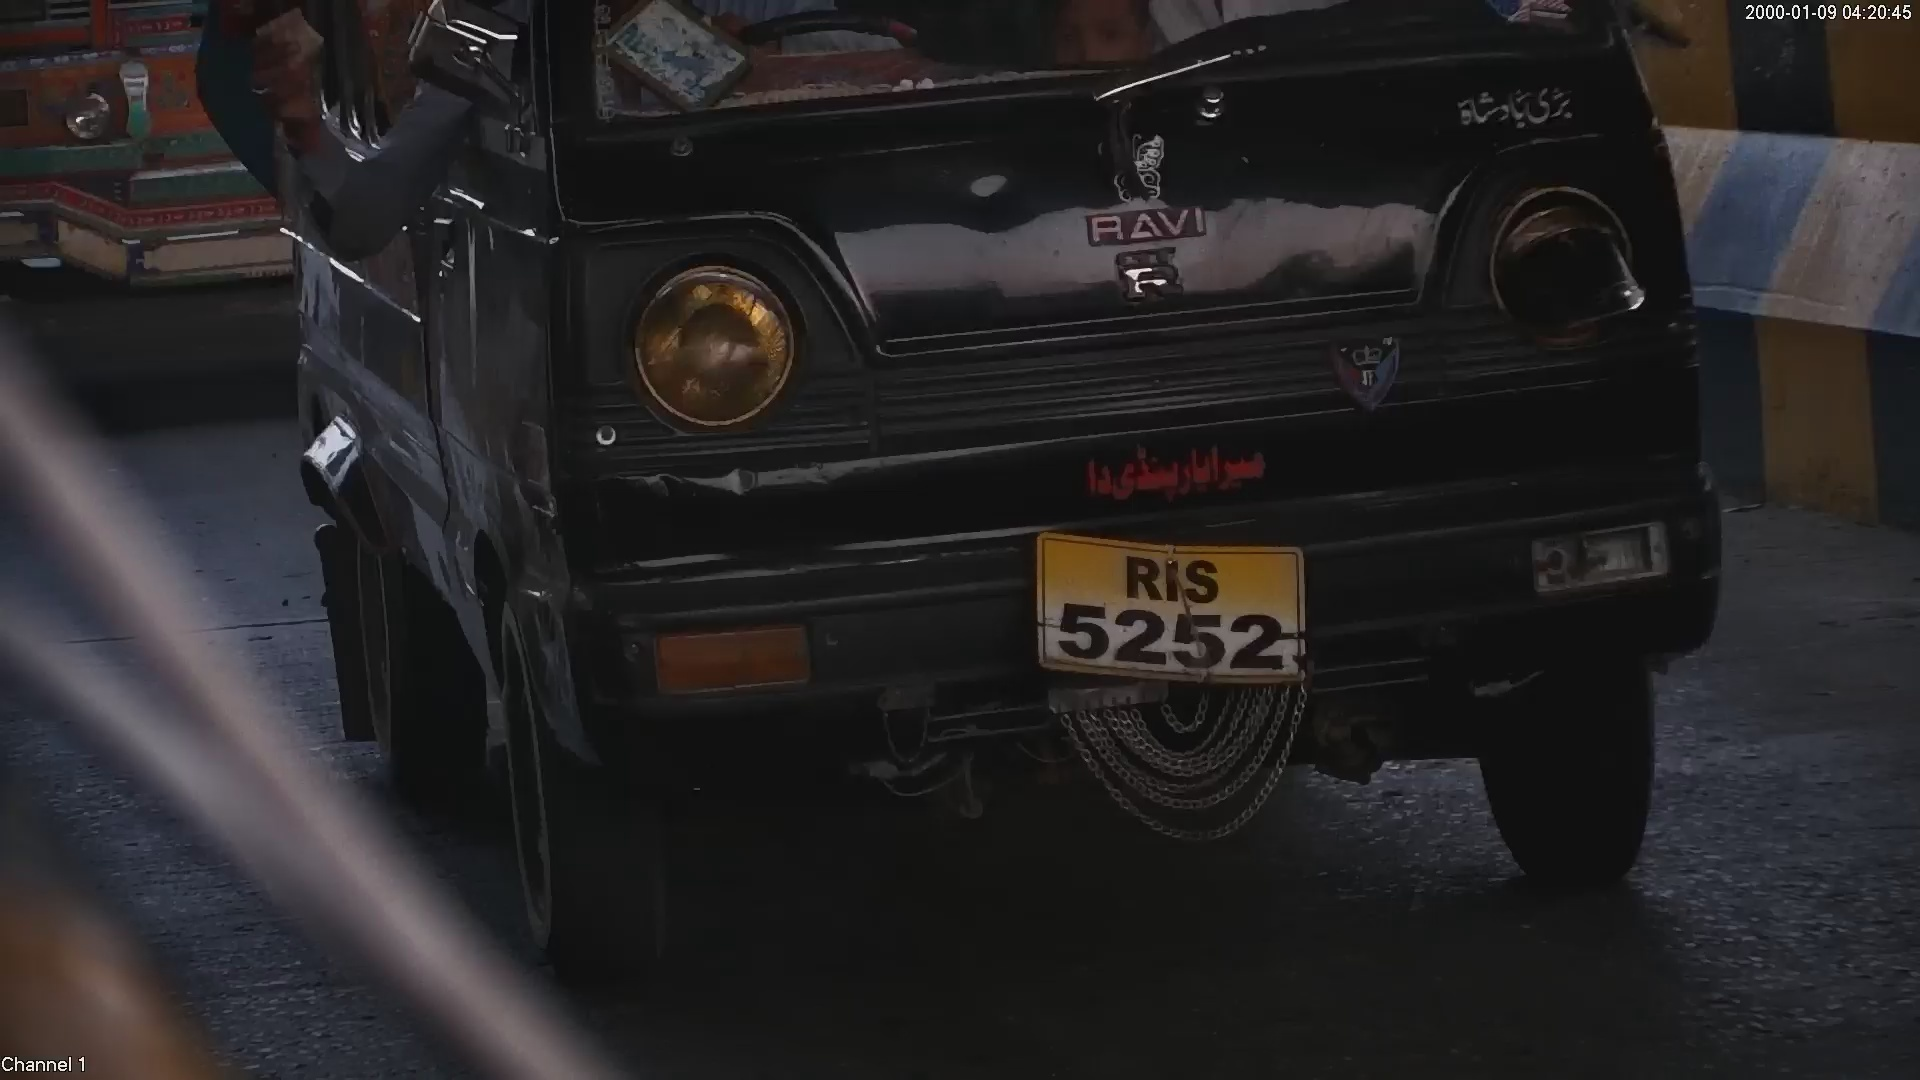Number_Plate: (997, 512, 1330, 686)
Undefined: (1045, 686, 1319, 846), (1069, 140, 1213, 305), (1054, 436, 1278, 503), (1434, 68, 1591, 142), (1315, 329, 1423, 418)
